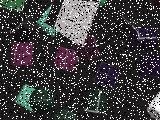Right: (45, 0, 101, 47)
